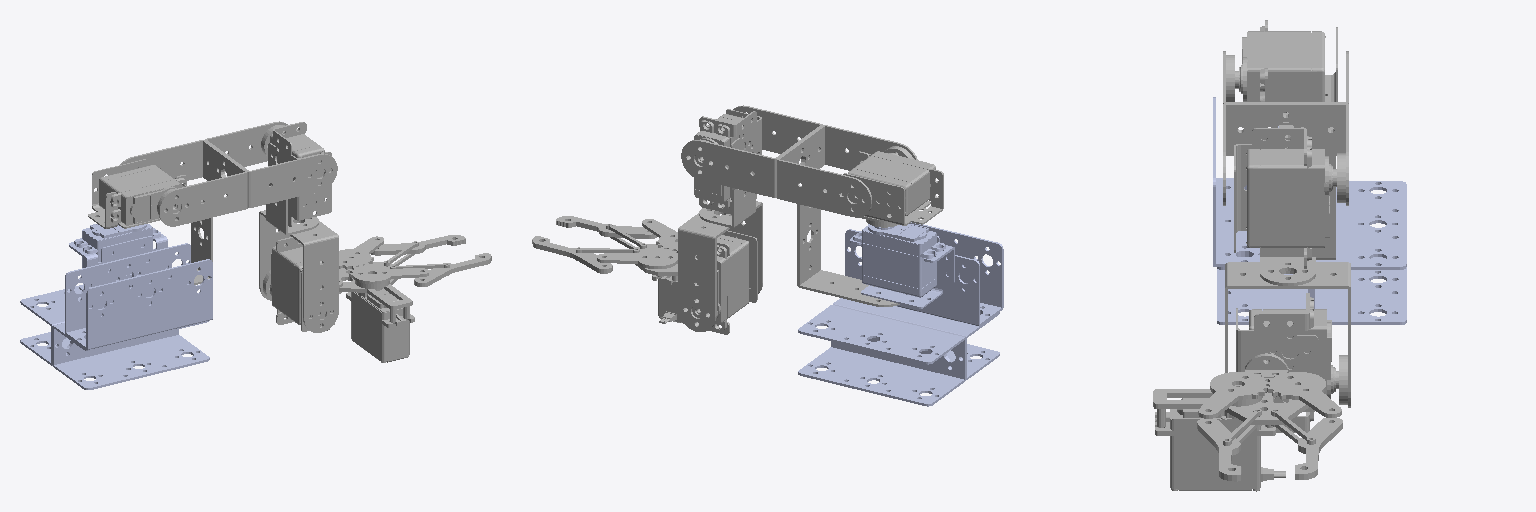
robot.urdf — bot:
<?xml version="1.0" encoding="utf-8"?>
<!-- This URDF was automatically created by SolidWorks to URDF Exporter! Originally created by [author] ([email redacted]) 
     Commit Version: 1.6.0-4-g7f85cfe  Build Version: 1.6.7995.38578
     For more information, please see http://wiki.ros.org/sw_urdf_exporter -->
<robot
  name="bot">
  <link
    name="base_link">
    <inertial>
      <origin
        xyz="-0.0104259249124956 -0.00485365722777515 0.0432744746088847"
        rpy="0 0 0" />
      <mass
        value="0.0725564097125622" />
      <inertia
        ixx="1.84434778729453E-05"
        ixy="6.73538681957983E-12"
        ixz="-2.39595473240261E-08"
        iyy="4.18895782173143E-05"
        iyz="6.40753661397796E-08"
        izz="3.97742050247117E-05" />
    </inertial>
    <visual>
      <origin
        xyz="0 0 0"
        rpy="0 0 0" />
      <geometry>
        <mesh
          filename="package://bot/meshes/base_link.STL" />
      </geometry>
      <material
        name="">
        <color
          rgba="0.792156862745098 0.819607843137255 0.933333333333333 1" />
      </material>
    </visual>
    <collision>
      <origin
        xyz="0 0 0"
        rpy="0 0 0" />
      <geometry>
        <mesh
          filename="package://bot/meshes/base_link.STL" />
      </geometry>
    </collision>
  </link>
  <link
    name="Link1">
    <inertial>
      <origin
        xyz="0.00546283640316582 -0.00787522432642801 0.00733617304750553"
        rpy="0 0 0" />
      <mass
        value="0.0391966504767969" />
      <inertia
        ixx="8.66224685977798E-06"
        ixy="2.39595473238764E-08"
        ixz="6.73538674748254E-12"
        iyy="1.16606317215538E-05"
        iyz="-6.40753661398291E-08"
        izz="1.08892970455725E-05" />
    </inertial>
    <visual>
      <origin
        xyz="0 0 0"
        rpy="0 0 0" />
      <geometry>
        <mesh
          filename="package://bot/meshes/Link1.STL" />
      </geometry>
      <material
        name="">
        <color
          rgba="0.752941176470588 0.752941176470588 0.752941176470588 1" />
      </material>
    </visual>
    <collision>
      <origin
        xyz="0 0 0"
        rpy="0 0 0" />
      <geometry>
        <mesh
          filename="package://bot/meshes/Link1.STL" />
      </geometry>
    </collision>
  </link>
  <joint
    name="Joint1"
    type="revolute">
    <origin
      xyz="0 0 0.09405"
      rpy="0 0 0" />
    <parent
      link="base_link" />
    <child
      link="Link1" />
    <axis
      xyz="0 0 1" />
    <limit
      lower="0"
      upper="3.1416"
      effort="0"
      velocity="0" />
  </joint>
  <link
    name="Link2">
    <inertial>
      <origin
        xyz="0.0515000000000018 -2.66453525910038E-15 -0.0265000000000021"
        rpy="0 0 0" />
      <mass
        value="0.0150579864214192" />
      <inertia
        ixx="8.03838158687272E-06"
        ixy="-8.20932068624527E-21"
        ixz="1.61114585437302E-20"
        iyy="1.22131883719689E-05"
        iyz="4.3674331030957E-20"
        izz="5.65715727925146E-06" />
    </inertial>
    <visual>
      <origin
        xyz="0 0 0"
        rpy="0 0 0" />
      <geometry>
        <mesh
          filename="package://bot/meshes/Link2.STL" />
      </geometry>
      <material
        name="">
        <color
          rgba="0.752941176470588 0.752941176470588 0.752941176470588 1" />
      </material>
    </visual>
    <collision>
      <origin
        xyz="0 0 0"
        rpy="0 0 0" />
      <geometry>
        <mesh
          filename="package://bot/meshes/Link2.STL" />
      </geometry>
    </collision>
  </link>
  <joint
    name="Joint2"
    type="revolute">
    <origin
      xyz="0.0108 -0.03605 0.015"
      rpy="1.5708 0 0" />
    <parent
      link="Link1" />
    <child
      link="Link2" />
    <axis
      xyz="0 0 1" />
    <limit
      lower="0"
      upper="3.14159"
      effort="0"
      velocity="0" />
  </joint>
  <link
    name="Link3">
    <inertial>
      <origin
        xyz="0.0227280488748431 -0.00067956124922619 0.0253101496525866"
        rpy="0 0 0" />
      <mass
        value="0.0411732267600477" />
      <inertia
        ixx="8.89417969716545E-06"
        ixy="-9.84795519161072E-08"
        ixz="-2.39595473238835E-08"
        iyy="1.45118250069406E-05"
        iyz="-6.407536613982E-08"
        izz="8.75387222329415E-06" />
    </inertial>
    <visual>
      <origin
        xyz="0 0 0"
        rpy="0 0 0" />
      <geometry>
        <mesh
          filename="package://bot/meshes/Link3.STL" />
      </geometry>
      <material
        name="">
        <color
          rgba="0.752941176470588 0.752941176470588 0.752941176470588 1" />
      </material>
    </visual>
    <collision>
      <origin
        xyz="0 0 0"
        rpy="0 0 0" />
      <geometry>
        <mesh
          filename="package://bot/meshes/Link3.STL" />
      </geometry>
    </collision>
  </link>
  <joint
    name="Joint3"
    type="revolute">
    <origin
      xyz="0.103 0 -0.053"
      rpy="0 0 -1.5708" />
    <parent
      link="Link2" />
    <child
      link="Link3" />
    <axis
      xyz="0 0 1" />
    <limit
      lower="0"
      upper="3.14159"
      effort="0"
      velocity="0" />
  </joint>
  <link
    name="Link4">
    <inertial>
      <origin
        xyz="-0.000683553147998811 0.009788902064824 -0.0263024391761697"
        rpy="0 0 0" />
      <mass
        value="0.0316676572660873" />
      <inertia
        ixx="8.06071840594679E-06"
        ixy="-6.73538676401053E-12"
        ixz="6.40753661397882E-08"
        iyy="4.64305606634161E-06"
        iyz="2.39595473238684E-08"
        izz="5.55403753556939E-06" />
    </inertial>
    <visual>
      <origin
        xyz="0 0 0"
        rpy="0 0 0" />
      <geometry>
        <mesh
          filename="package://bot/meshes/Link4.STL" />
      </geometry>
      <material
        name="">
        <color
          rgba="0.752941176470588 0.752941176470588 0.752941176470588 1" />
      </material>
    </visual>
    <collision>
      <origin
        xyz="0 0 0"
        rpy="0 0 0" />
      <geometry>
        <mesh
          filename="package://bot/meshes/Link4.STL" />
      </geometry>
    </collision>
  </link>
  <joint
    name="Joint4"
    type="revolute">
    <origin
      xyz="0.0978 0.0015 -0.00095"
      rpy="3.1416 0 -1.5708" />
    <parent
      link="Link3" />
    <child
      link="Link4" />
    <axis
      xyz="0 0 1" />
    <limit
      lower="0"
      upper="3.1416"
      effort="0"
      velocity="0" />
  </joint>
  <link
    name="End-Effector">
    <inertial>
      <origin
        xyz="-0.00206517721146154 -0.00129528688269807 0.00179786208495467"
        rpy="0 0 0" />
      <mass
        value="0.00776565253868279" />
      <inertia
        ixx="2.91154010316693E-07"
        ixy="5.9128545684224E-09"
        ixz="1.88535987855435E-20"
        iyy="1.32768886940971E-06"
        iyz="-8.33805675124698E-22"
        izz="1.60692450022982E-06" />
    </inertial>
    <visual>
      <origin
        xyz="0 0 0"
        rpy="0 0 0" />
      <geometry>
        <mesh
          filename="package://bot/meshes/End-Effector.STL" />
      </geometry>
      <material
        name="">
        <color
          rgba="0.752941176470588 0.752941176470588 0.752941176470588 1" />
      </material>
    </visual>
    <collision>
      <origin
        xyz="0 0 0"
        rpy="0 0 0" />
      <geometry>
        <mesh
          filename="package://bot/meshes/End-Effector.STL" />
      </geometry>
    </collision>
  </link>
  <joint
    name="Joint5"
    type="fixed">
    <origin
      xyz="-0.06635 0.0105 -0.036066"
      rpy="1.5708 0 3.1416" />
    <parent
      link="Link4" />
    <child
      link="End-Effector" />
    <axis
      xyz="0 0 0" />
  </joint>
</robot>

--- Facts derived from the render (not from the file) ---
Views: 3 orthographic renders of the robot side by side, from view 1: azimuth 30°, elevation 25°; view 2: azimuth 150°, elevation 25°; view 3: azimuth 270°, elevation 25°.
Model bot with 6 links and 5 joints (4 revolute, 1 fixed), rooted at base_link, posed every joint at zero.
Visible links, largest first — view 1: base_link, Link2, End-Effector, Link3, Link1, Link4; view 2: base_link, Link2, Link3, Link1, End-Effector, Link4; view 3: End-Effector, Link3, base_link, Link1, Link2, Link4.
Link boxes in pixels (x1=…): base_link: x1=20, y1=224, x2=212, y2=389; Link2: x1=120, y1=121, x2=337, y2=226; End-Effector: x1=339, y1=235, x2=491, y2=362; Link3: x1=259, y1=122, x2=338, y2=332; Link1: x1=88, y1=159, x2=212, y2=284; Link4: x1=270, y1=237, x2=334, y2=331; base_link: x1=798, y1=222, x2=1003, y2=406; Link2: x1=681, y1=105, x2=917, y2=217; Link3: x1=678, y1=109, x2=762, y2=331; Link1: x1=797, y1=151, x2=943, y2=306; End-Effector: x1=532, y1=216, x2=683, y2=323; Link4: x1=696, y1=230, x2=757, y2=334; End-Effector: x1=1153, y1=353, x2=1342, y2=491; Link3: x1=1225, y1=128, x2=1350, y2=407; base_link: x1=1213, y1=97, x2=1406, y2=324; Link1: x1=1239, y1=20, x2=1337, y2=259; Link2: x1=1223, y1=51, x2=1348, y2=205; Link4: x1=1236, y1=293, x2=1335, y2=432.
Bounding box of the posed robot: 0.2946 × 0.1119 × 0.1475 m (x, y, z).
6 mesh visuals loaded from 6 distinct referenced files (6 binary STL).